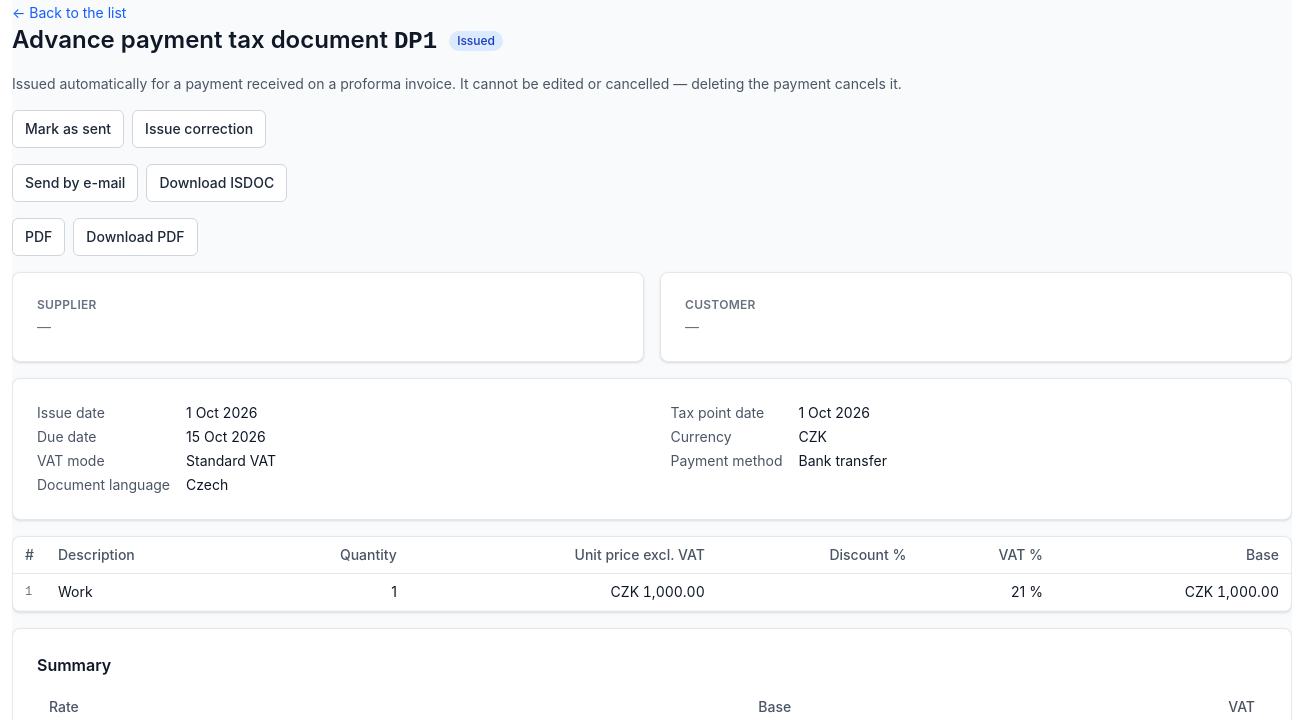
Test: correction actions (1f-a) › DDPP correction refused with 409 advance_in_use explains why
This screenshot has width=1292, height=720.
Step 1. Click the button with test id "ddpp-correction" → (199, 129), box x1=132 y1=110 x2=266 y2=148
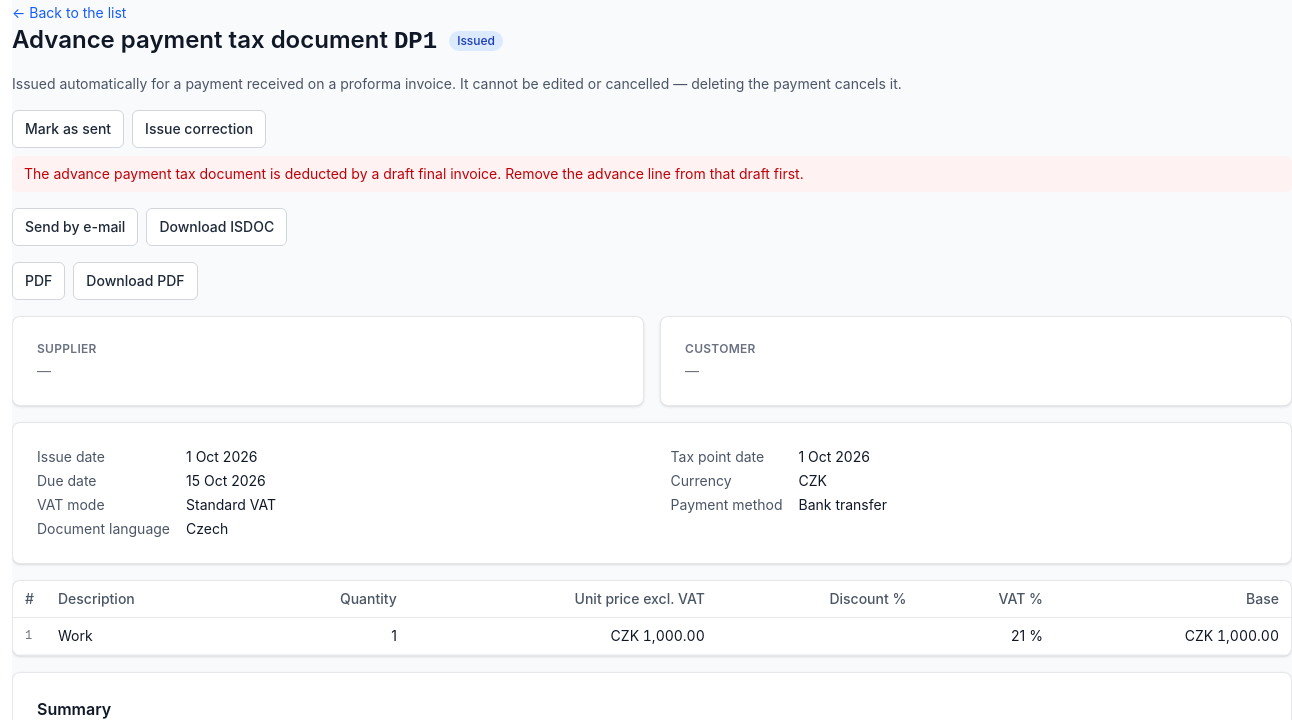
expect the message with test id "action-error" shows "deducted by a draft final invoice": met, box x1=24 y1=165 x2=804 y2=182
